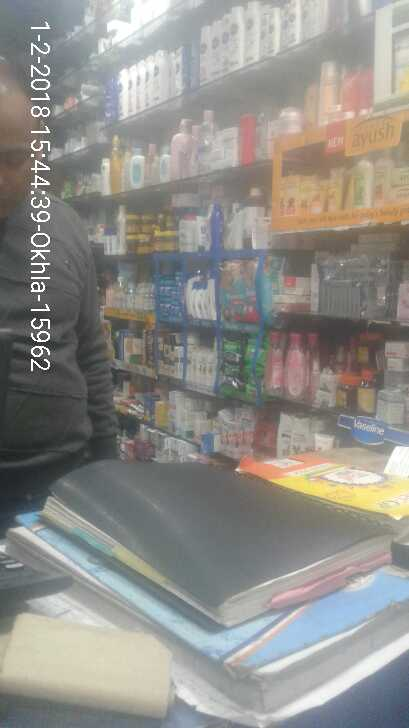vicks: (155, 267, 187, 320)
